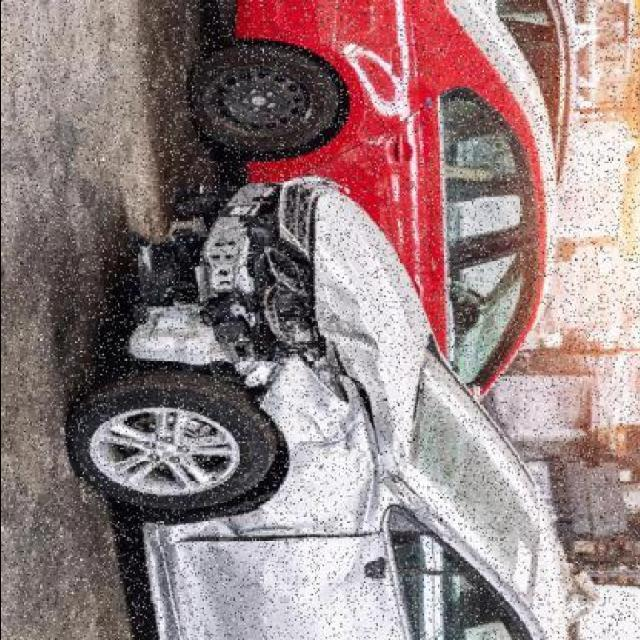bonnet-dent: (313, 174, 425, 382)
doorouter-dent: (171, 533, 399, 640)
fender-dent: (216, 383, 386, 534)
front-bumper-dent: (121, 176, 305, 380)
